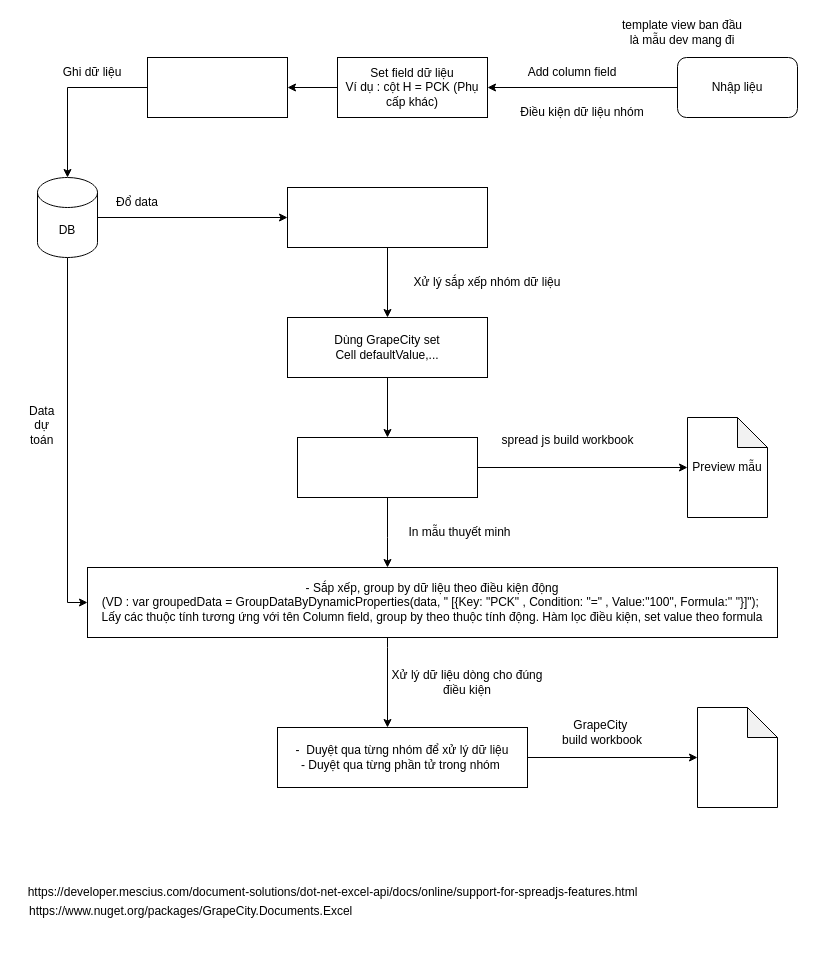
Image size: 815x954. Some labels were removed from this diagram. The centre of each missing label's shape, as x and y in pixels:
"Data Template, nhóm dữ liệu , column field kèm điều kiện, công thức (nếu có)" belongs at point 387,217.
"Mẫu IN" belongs at point 737,757.
"spread js build template, data option group, field" belongs at point 217,87.
